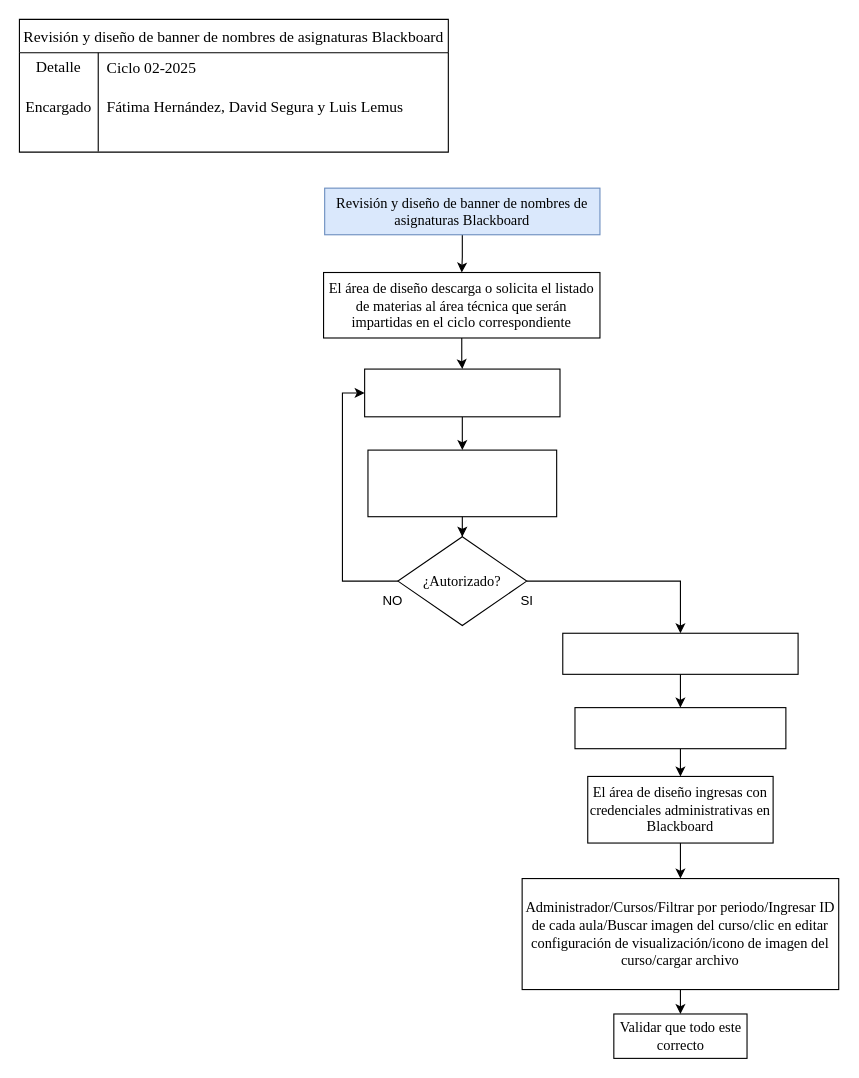
Some shapes in this 859 by 1078 pixel diagram are drawn without their labels. The centre of each missing label's shape, as x and y in pixels:
"Crear el banner para cada una de las aulas con vigencia de un año" goes at point (680, 653).
"El área de diseño realiza 3 propuestas utilizando línea gráfica institucional" goes at point (462, 392).
"Envío de propuesta a la Dirección de Educación Virtual para autorizar" goes at point (462, 483).
"Exportación de imagen en PNG de cada uno de los banners" goes at point (680, 728).
